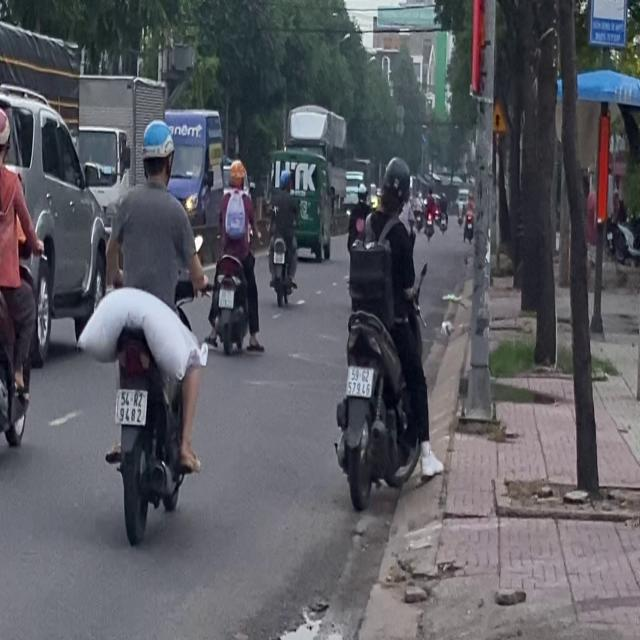helmet: (139, 116, 174, 184), (378, 156, 411, 214), (228, 157, 245, 187)
licenseplate: (80, 115, 207, 542), (334, 149, 433, 510), (207, 157, 260, 357)
nohelmet: (115, 388, 146, 424), (346, 366, 373, 398), (218, 289, 234, 308)
